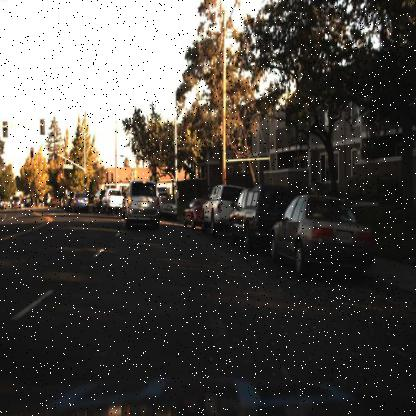car: (267, 186, 378, 294), (268, 191, 374, 275), (224, 180, 268, 260), (227, 183, 276, 252), (198, 183, 238, 239), (123, 182, 160, 228), (200, 178, 226, 240), (179, 196, 201, 232), (102, 184, 127, 212), (100, 187, 124, 215), (154, 192, 179, 218), (71, 191, 91, 211), (72, 190, 90, 212), (92, 189, 103, 216), (9, 192, 23, 213), (62, 190, 74, 214), (63, 189, 76, 210)
trafficLight-Red: (27, 144, 36, 160), (52, 145, 59, 162), (50, 147, 58, 161), (82, 170, 89, 183), (84, 170, 90, 184)
trafficLight-RedLeft: (29, 144, 36, 162)
